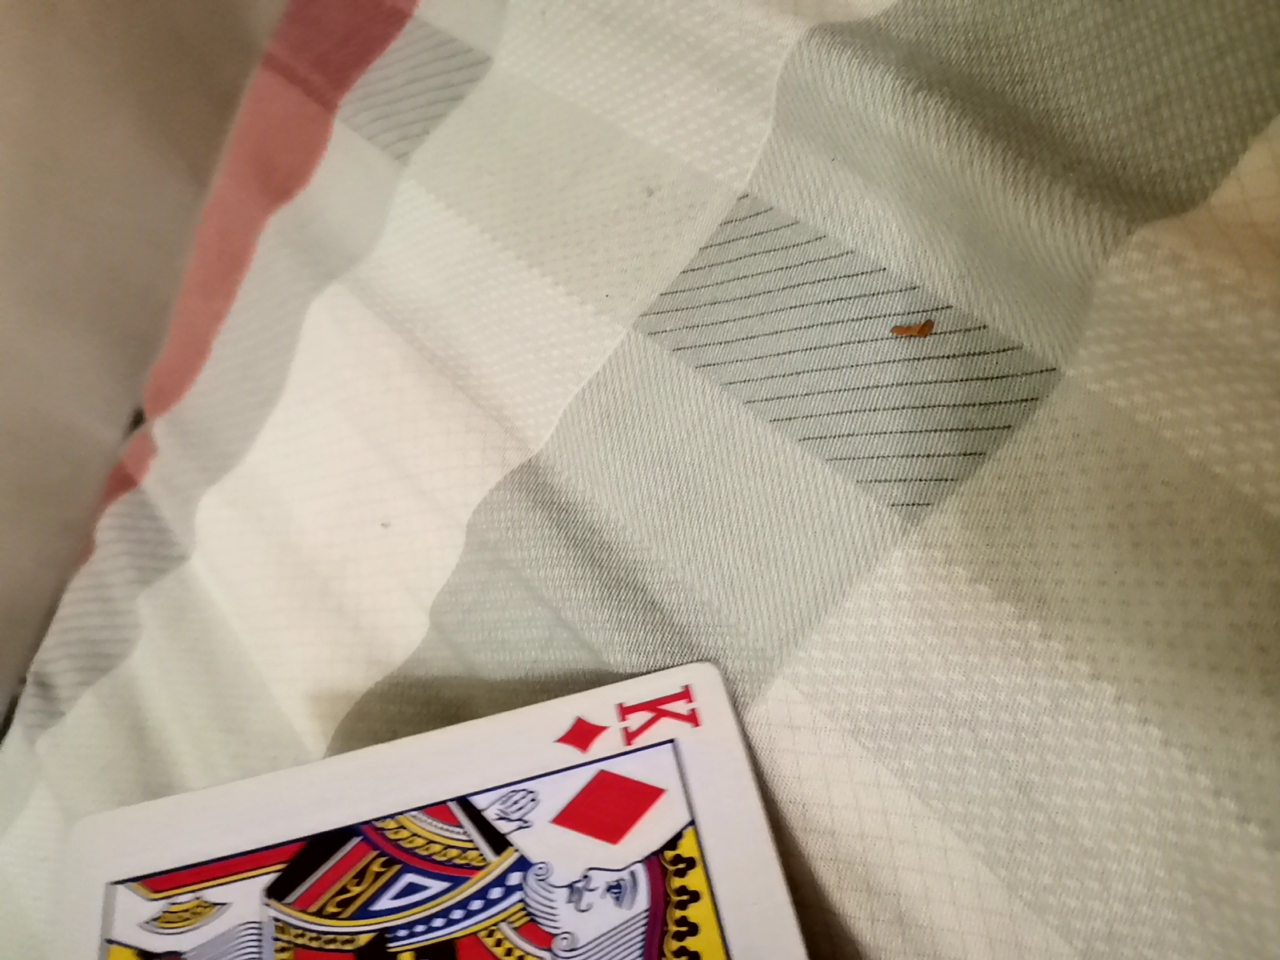fk k: (36, 683, 845, 960)
